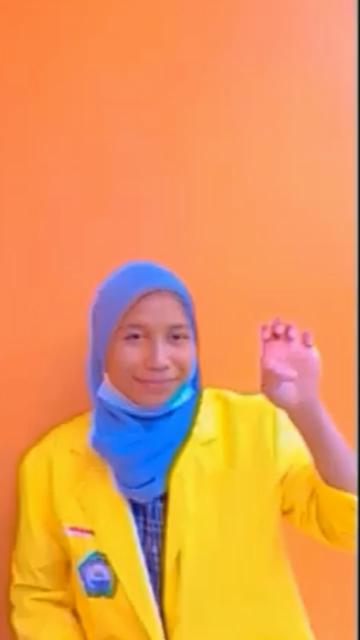E: (255, 321, 330, 421)
